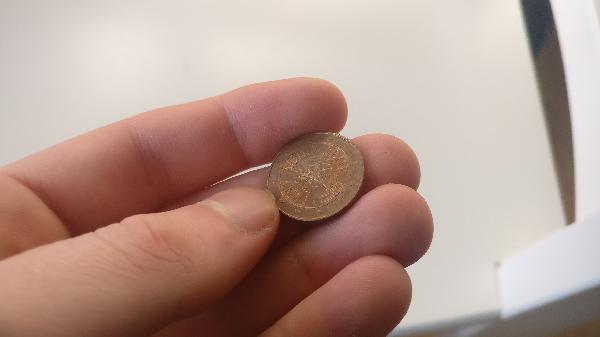Five Cent: (267, 129, 370, 221)
